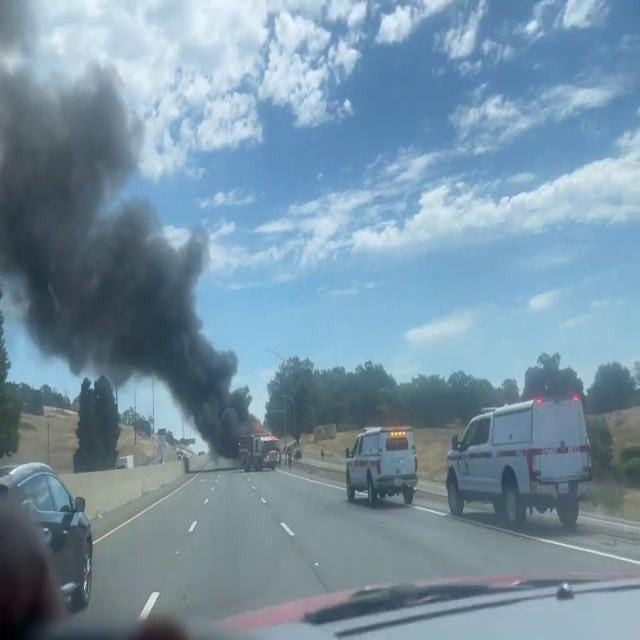Smoke: (0, 21, 258, 462)
